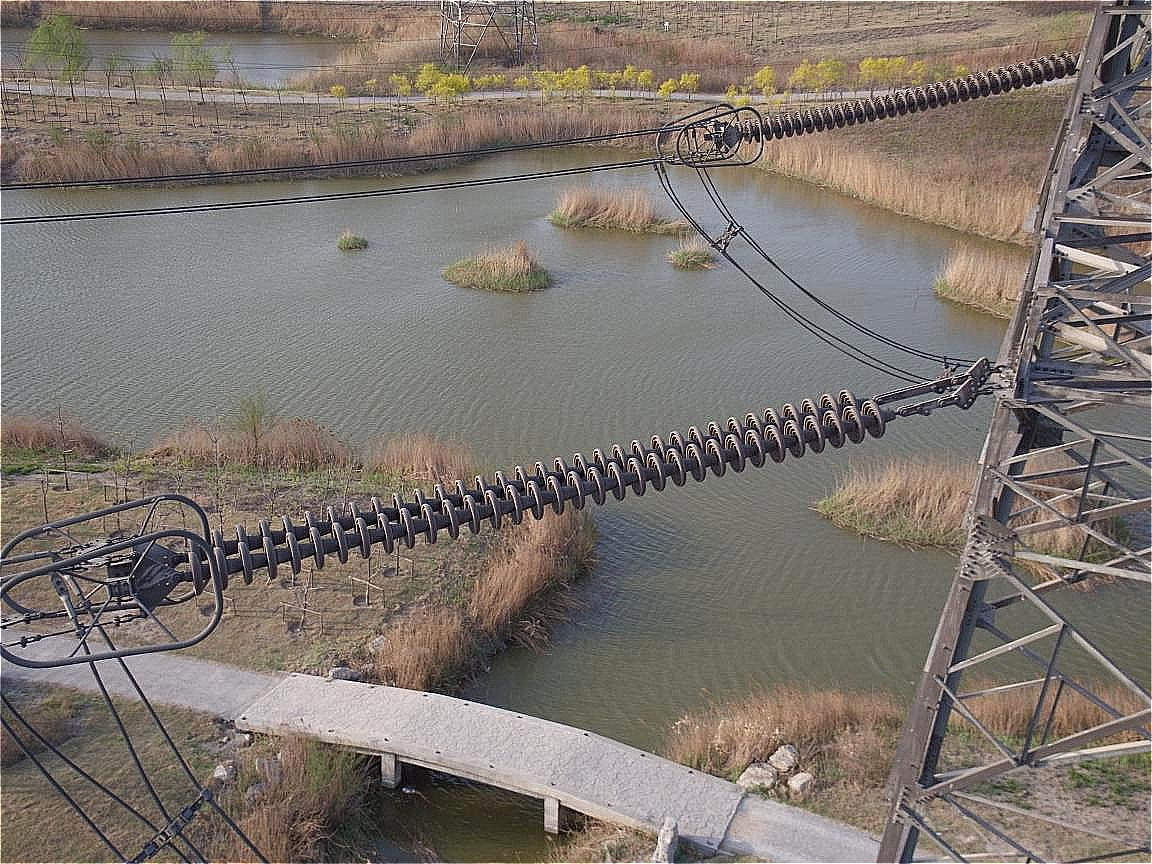insultor1: (185, 387, 889, 594), (745, 50, 1080, 148)
